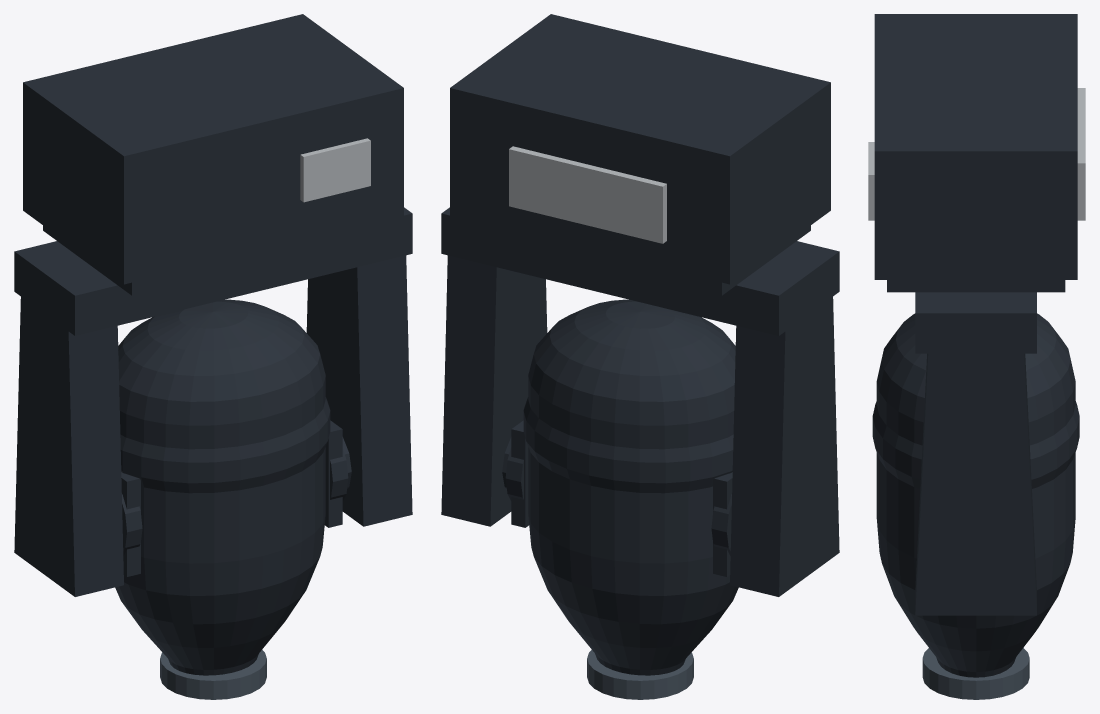
Rendered from moving-head-profile-no-clamp.glb.
The picture shows the model from 3 angles, left to right: view 1: azimuth 30°, elevation 25°; view 2: azimuth 150°, elevation 25°; view 3: azimuth 270°, elevation 25°; orthographic projection.
Parts seen in each view (by area): view 1: moving-base, head-body, yoke-left, yoke-right, yoke-crossbar, head-cheeks, base-display, lens-ring; view 2: moving-base, head-body, yoke-left, yoke-right, yoke-crossbar, base-connectors, head-cheeks, lens-ring; view 3: moving-base, head-body, yoke-right, yoke-crossbar, lens-ring, base-connectors, base-display.
Boxes of the visible parts, left/top/right/bottom form: moving-base: left=23, top=14, right=403, bottom=295; head-body: left=115, top=299, right=330, bottom=675; yoke-left: left=14, top=297, right=123, bottom=596; yoke-right: left=306, top=255, right=412, bottom=526; yoke-crossbar: left=14, top=207, right=412, bottom=335; head-cheeks: left=121, top=420, right=348, bottom=576; base-display: left=300, top=138, right=370, bottom=202; lens-ring: left=160, top=650, right=266, bottom=699; moving-base: left=450, top=14, right=830, bottom=295; head-body: left=523, top=299, right=738, bottom=675; yoke-left: left=730, top=297, right=839, bottom=596; yoke-right: left=441, top=255, right=547, bottom=526; yoke-crossbar: left=441, top=207, right=839, bottom=335; base-connectors: left=509, top=146, right=666, bottom=243; head-cheeks: left=505, top=420, right=732, bottom=576; lens-ring: left=587, top=650, right=693, bottom=699; moving-base: left=874, top=14, right=1077, bottom=292; head-body: left=872, top=313, right=1079, bottom=677; yoke-right: left=915, top=353, right=1036, bottom=615; yoke-crossbar: left=915, top=292, right=1036, bottom=353; lens-ring: left=922, top=648, right=1029, bottom=699; base-connectors: left=1077, top=88, right=1085, bottom=220; base-display: left=868, top=142, right=874, bottom=220.
Size of the model in its own units: 0.482 by 0.8083 by 0.268.
